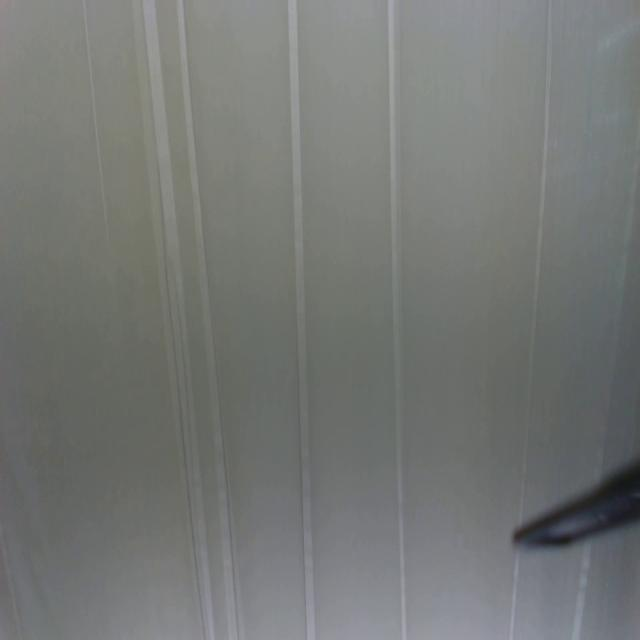crease: (141, 0, 207, 640), (180, 0, 240, 640), (287, 0, 316, 640), (520, 0, 554, 501), (388, 0, 408, 640), (80, 0, 107, 233), (571, 545, 595, 640), (508, 550, 521, 639)
